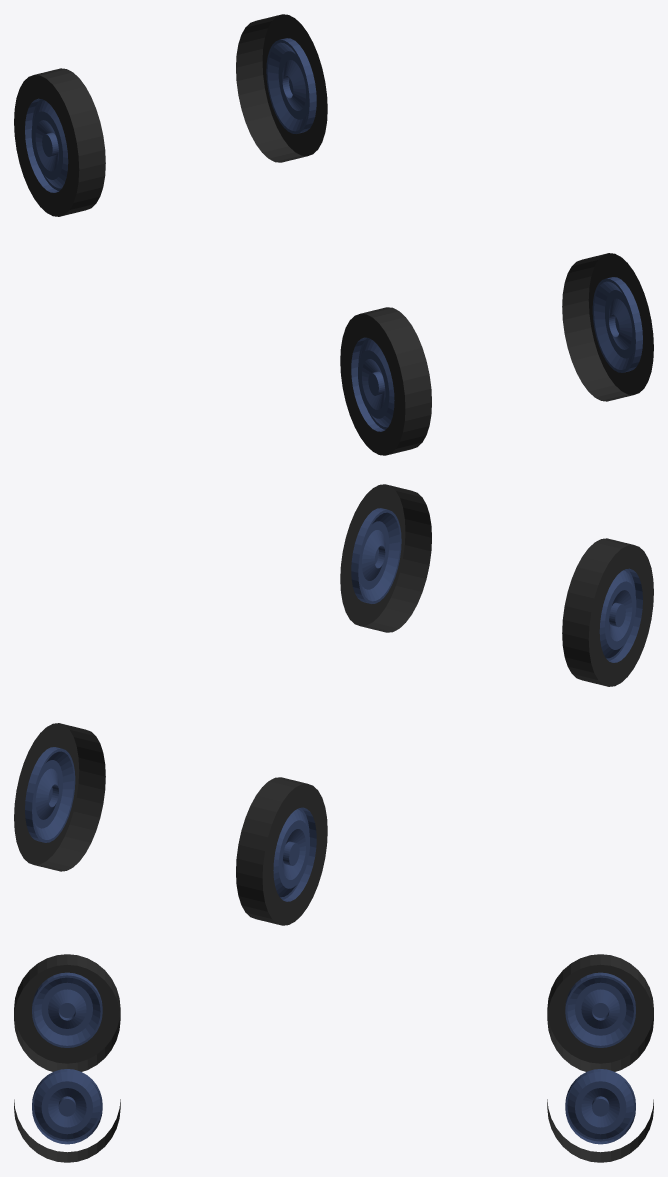
Rendered from bus-wheels-ts7-single.dae.
3 views of the same model, one above another, from view 1: azimuth 30°, elevation 25°; view 2: azimuth 150°, elevation 25°; view 3: azimuth 270°, elevation 25° (orthographic). The views are drawn at different scales.
Visible parts, largest first — view 1: Circle, Circle_004; view 2: Circle, Circle_004; view 3: Circle, Circle_004.
Part boxes in pixels (x1,y1,x2,y2): Circle: (340, 253, 653, 455); Circle_004: (14, 14, 327, 216); Circle: (340, 484, 653, 686); Circle_004: (14, 723, 327, 925); Circle: (14, 954, 120, 1162); Circle_004: (547, 954, 653, 1162).
Size of the model in its own units: 1.31 by 3.57 by 0.6748.
